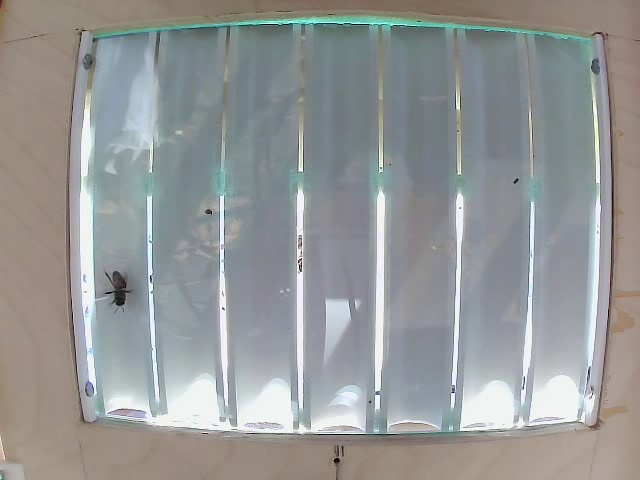bee: (105, 264, 142, 314)
